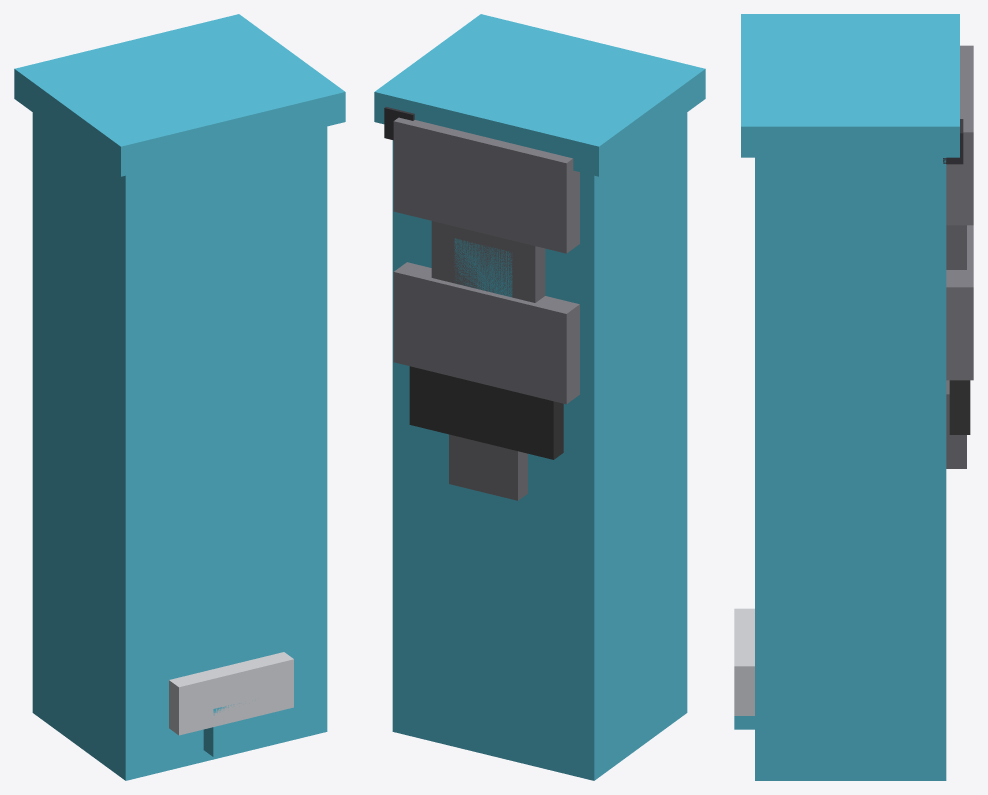
The model's file is joycon_left.gltf.
3 views of the same model, side by side, from view 1: azimuth 30°, elevation 25°; view 2: azimuth 150°, elevation 25°; view 3: azimuth 270°, elevation 25° (orthographic). The views are drawn at different scales.
Visible parts, largest first — view 1: joycon_left; view 2: joycon_left; view 3: joycon_left.
Part boxes in pixels (<box>): joycon_left: <box>14,14,345,780</box>; joycon_left: <box>374,14,705,780</box>; joycon_left: <box>734,14,973,780</box>.
Bounding box in the file's own units: 0.039 × 0.1095 × 0.035.
